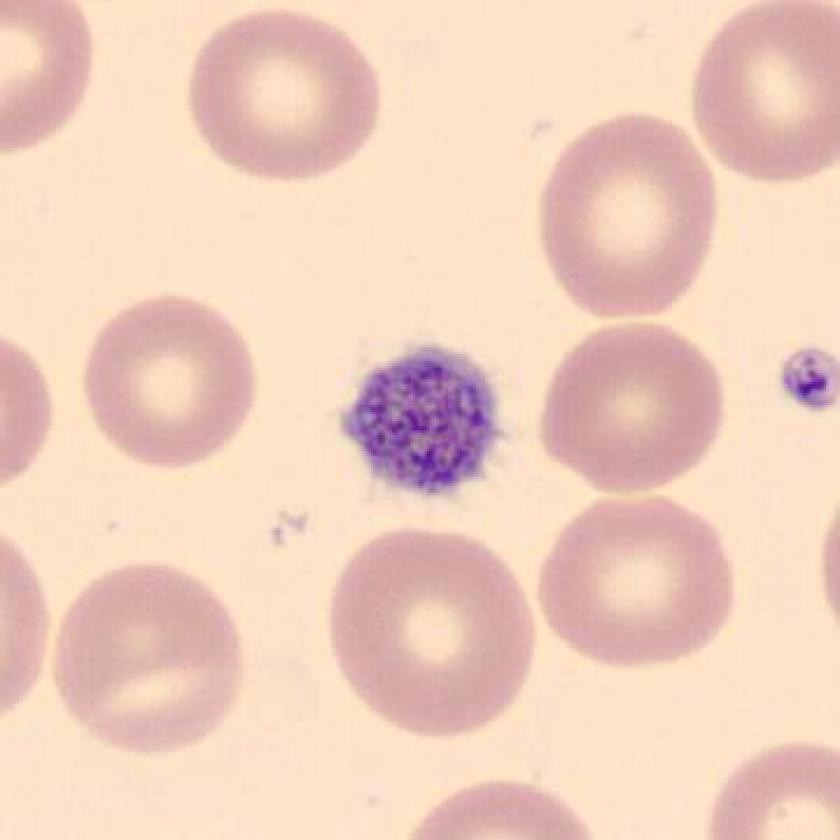platelets: (332, 330, 512, 513)
